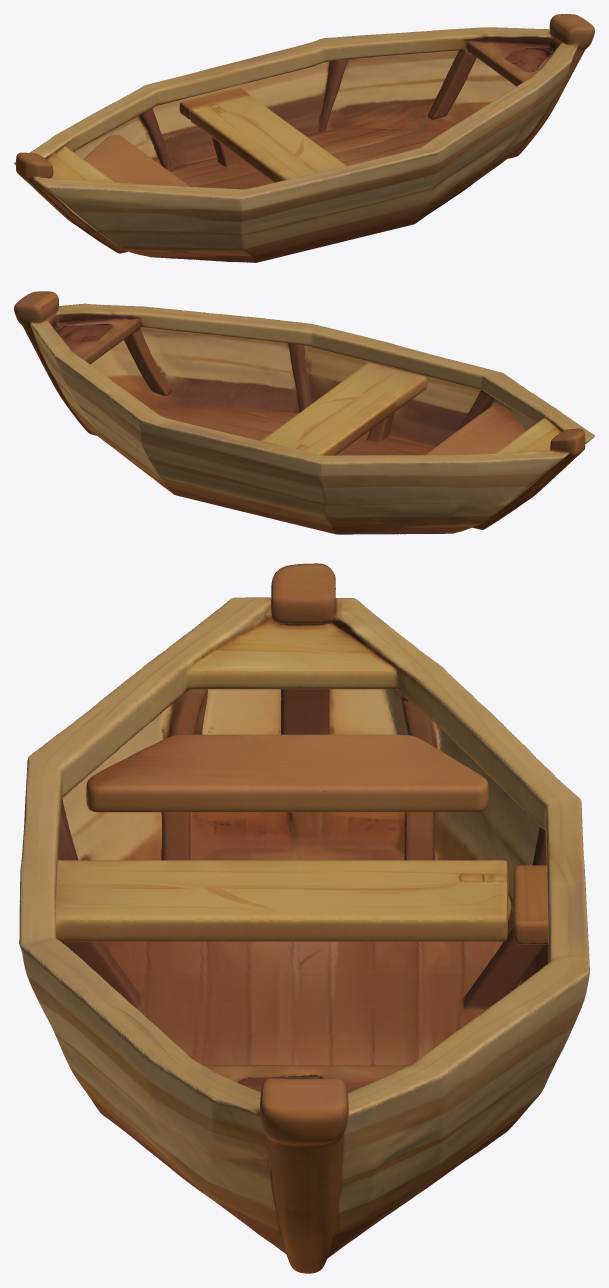
Rendered from rowboat.glb.
3 views of the same model, one above another, from view 1: azimuth 30°, elevation 25°; view 2: azimuth 150°, elevation 25°; view 3: azimuth 270°, elevation 25° (orthographic). The views are drawn at different scales.
Visible parts, largest first — view 1: tripo_node_a9a5b010-741a-40e3-a3c8-4b936260aad2; view 2: tripo_node_a9a5b010-741a-40e3-a3c8-4b936260aad2; view 3: tripo_node_a9a5b010-741a-40e3-a3c8-4b936260aad2.
Part boxes in pixels (x1,y1,x2,y2): tripo_node_a9a5b010-741a-40e3-a3c8-4b936260aad2: (14,14,594,262); tripo_node_a9a5b010-741a-40e3-a3c8-4b936260aad2: (14,291,594,534); tripo_node_a9a5b010-741a-40e3-a3c8-4b936260aad2: (19,563,589,1273).
Bounding box in the file's own units: 1 × 0.2067 × 0.4399.
Materials: 1 (1 with a texture image).
